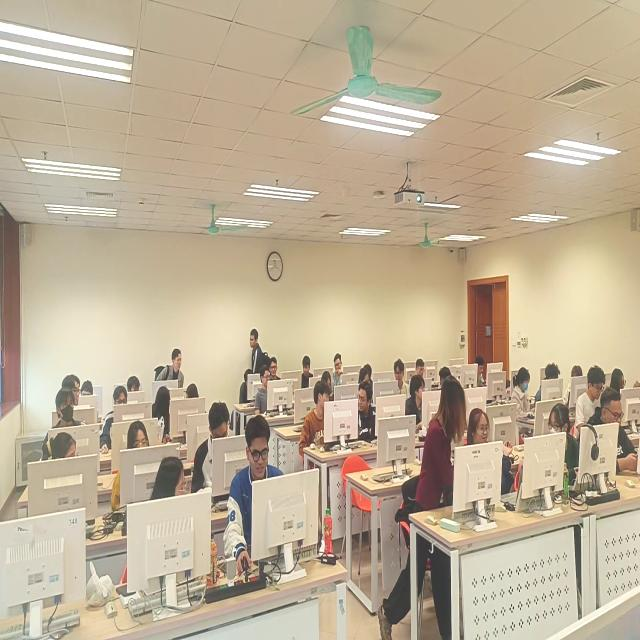raise_hand: (468, 408, 514, 502)
raise_head: (52, 388, 89, 428), (270, 357, 282, 381)
stand: (414, 376, 468, 515), (155, 348, 185, 389), (251, 330, 272, 375)
using_computer: (224, 416, 285, 576), (586, 388, 640, 475), (192, 403, 231, 495), (112, 422, 151, 513), (574, 367, 607, 435), (100, 385, 129, 456), (512, 368, 536, 420), (406, 376, 426, 435), (537, 363, 562, 403), (610, 368, 640, 396), (256, 366, 272, 417), (564, 367, 584, 407), (323, 371, 335, 403), (476, 356, 487, 388), (440, 367, 451, 392), (82, 381, 94, 397), (359, 369, 371, 385), (417, 360, 426, 378), (364, 364, 373, 379)
